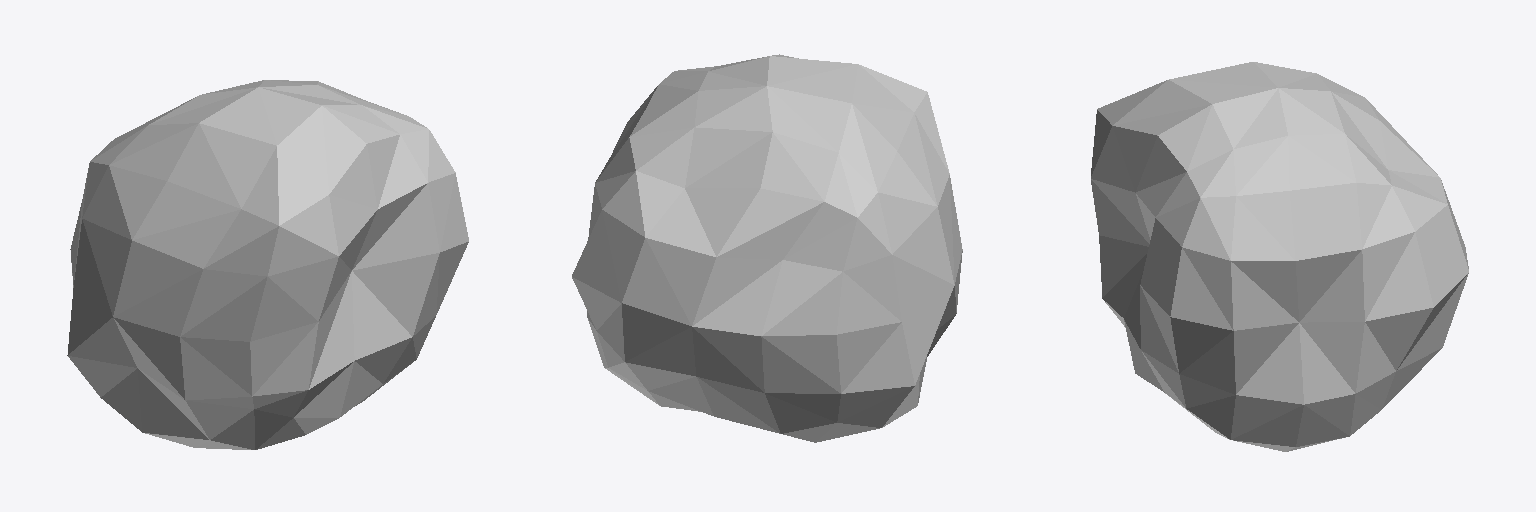
The model's file is bush.obj.
3 renders of one model, left to right at view 1: azimuth 30°, elevation 25°; view 2: azimuth 150°, elevation 25°; view 3: azimuth 270°, elevation 25°, orthographic.
Visible parts, largest first — view 1: Cube.001; view 2: Cube.001; view 3: Cube.001.
Part boxes in pixels (x1,y1,x2,y2): Cube.001: (67,80,468,449); Cube.001: (572,54,962,442); Cube.001: (1091,62,1468,451).
Size of the model in its own units: 2.1 by 2.02 by 2.06.